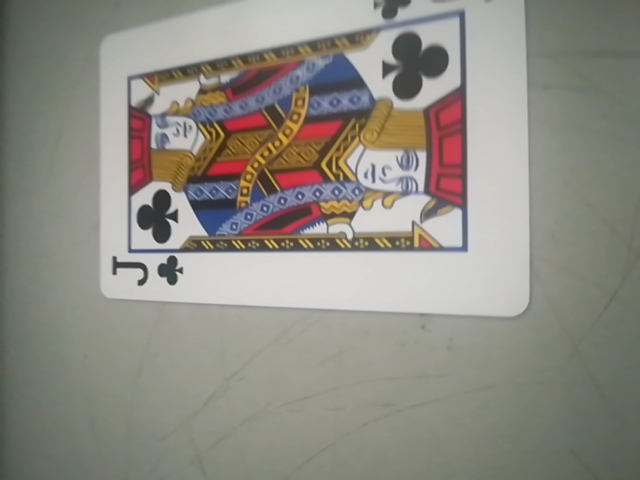mh j: (91, 0, 534, 320)
